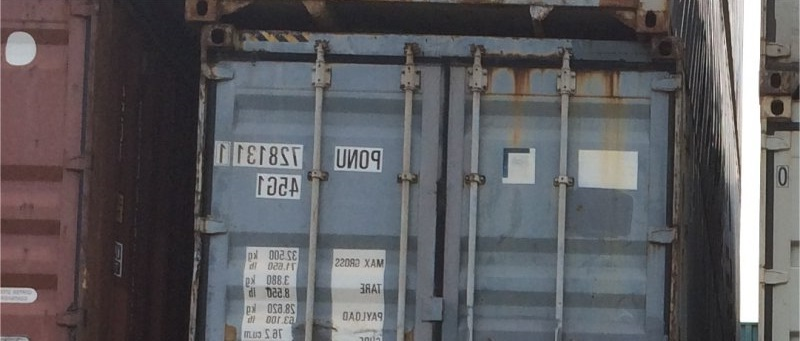container_door: (192, 14, 679, 339)
